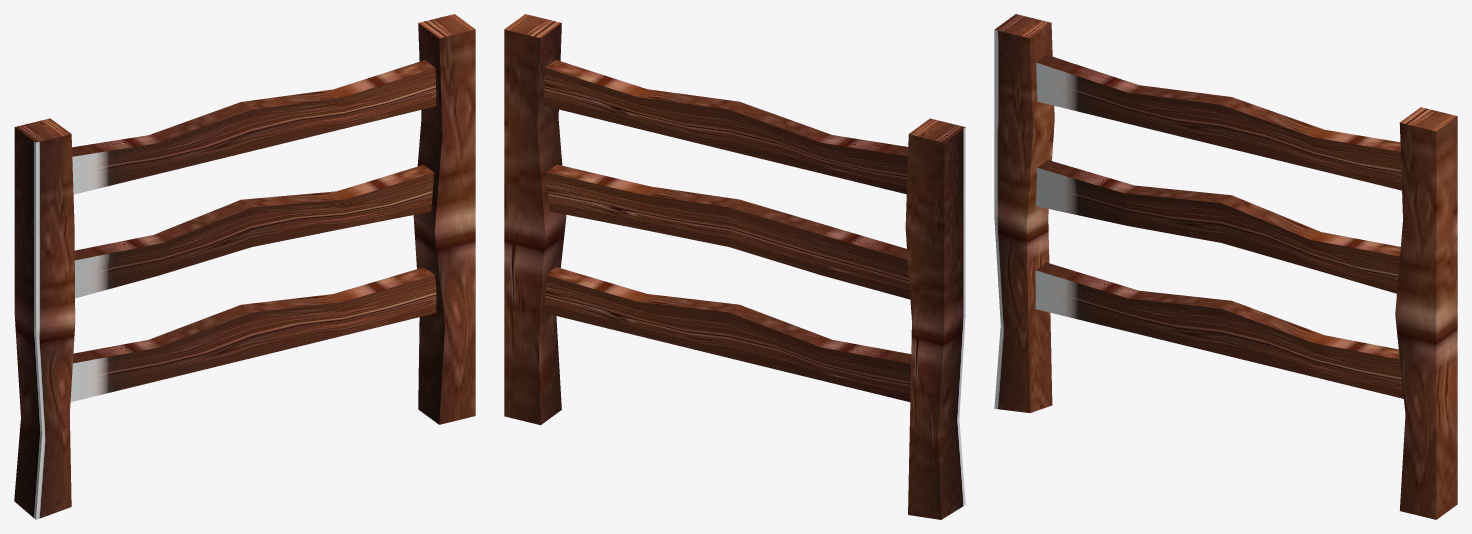
File: dark red fence bent.fbx
3 views of the same model, side by side, from view 1: azimuth 30°, elevation 25°; view 2: azimuth 150°, elevation 25°; view 3: azimuth 330°, elevation 25° (orthographic).
Parts seen in each view (by area): view 1: Cube.039, Cube.038, Cube.035, Cube.037, Cube.036; view 2: Cube.039, Cube.038, Cube.036, Cube.035, Cube.037; view 3: Cube.038, Cube.039, Cube.035, Cube.037, Cube.036.
Part boxes in pixels (x1,y1,x2,y2): Cube.039: (14, 118, 75, 519); Cube.038: (413, 14, 475, 424); Cube.035: (70, 267, 436, 401); Cube.037: (72, 60, 436, 194); Cube.036: (74, 165, 434, 298); Cube.039: (905, 118, 965, 519); Cube.038: (504, 14, 566, 425); Cube.036: (546, 164, 910, 299); Cube.035: (544, 267, 911, 401); Cube.037: (544, 60, 908, 194); Cube.038: (1395, 107, 1457, 519); Cube.039: (994, 14, 1054, 412); Cube.035: (1035, 262, 1403, 398); Cube.037: (1036, 55, 1401, 190); Cube.036: (1036, 160, 1400, 293).
Bounding box in the file's own units: 595 × 500 × 62.75.
